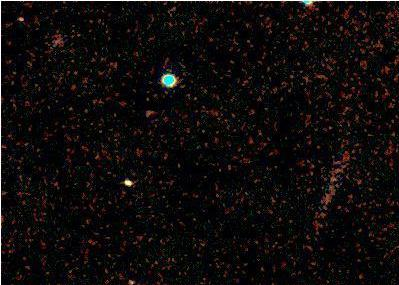star: (113, 165, 143, 195)
